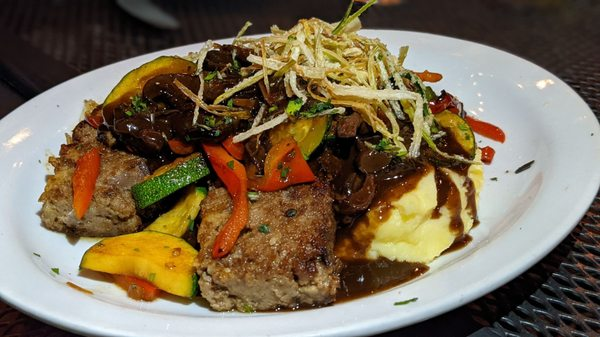curry: (1, 1, 594, 329)
pizza: (72, 148, 101, 221)
